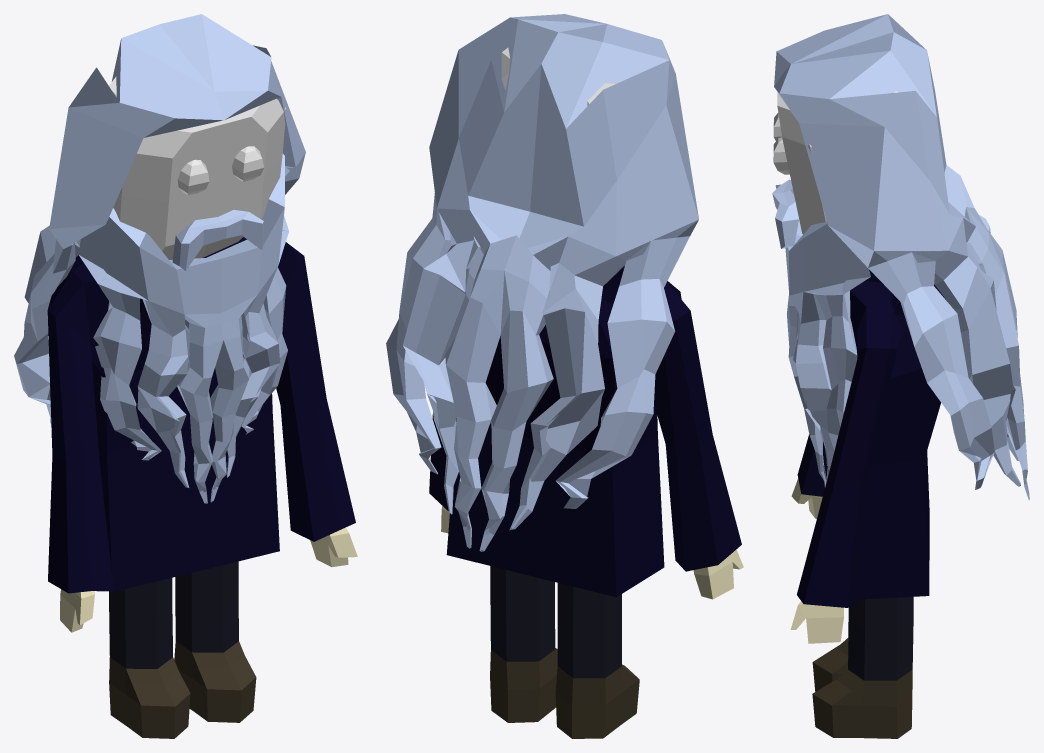
File: creepy guy.fbx
The picture shows the model from 3 angles, left to right: view 1: azimuth 30°, elevation 25°; view 2: azimuth 150°, elevation 25°; view 3: azimuth 270°, elevation 25°; orthographic projection. The views are drawn at different scales.
Visible parts, largest first — view 1: beard, hair, arm, torso, leg, head, hands, eyes; view 2: hair, torso, leg, arm, hands; view 3: hair, arm, torso, beard, leg, head, hands, eyes.
Boxes of the visible parts, box(x1,y1,x2,y2) form: beard: box(78, 153, 288, 503); hair: box(14, 14, 305, 423); arm: box(47, 242, 355, 593); torso: box(67, 237, 279, 592); leg: box(109, 561, 256, 738); head: box(109, 76, 286, 259); hands: box(60, 527, 357, 632); eyes: box(177, 146, 263, 195); hair: box(386, 14, 698, 551); torso: box(446, 273, 664, 597); leg: box(490, 566, 639, 738); arm: box(429, 266, 741, 571); hands: box(441, 506, 743, 599); hair: box(774, 14, 1029, 499); arm: box(797, 281, 903, 607); torso: box(859, 269, 947, 599); beard: box(772, 179, 870, 487); leg: box(812, 596, 913, 738); head: box(777, 91, 899, 234); hands: box(790, 478, 843, 643); eyes: box(773, 113, 789, 174).
Size of the model in its own units: 82.19 by 187 by 64.28.
